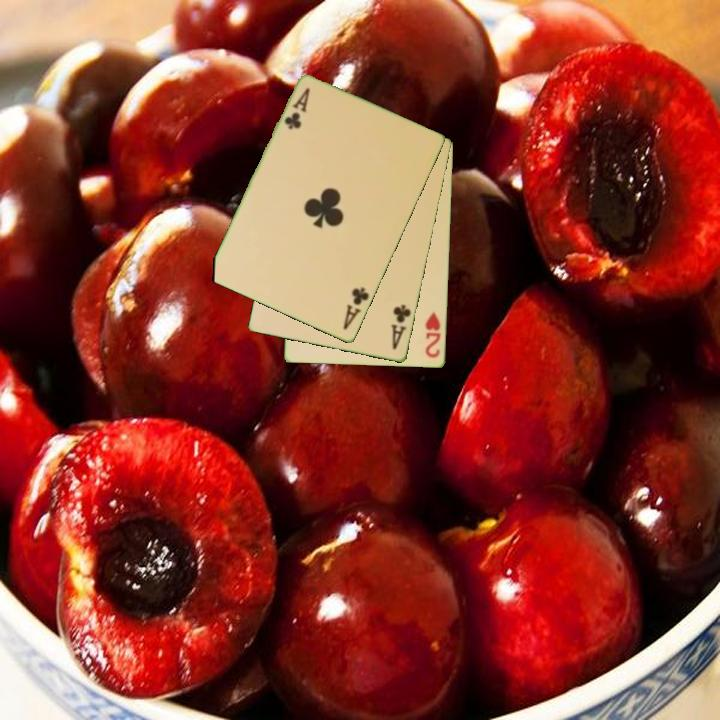2h: (422, 309, 444, 361)
Ac: (340, 284, 372, 333), (281, 84, 313, 133), (388, 301, 414, 353)
